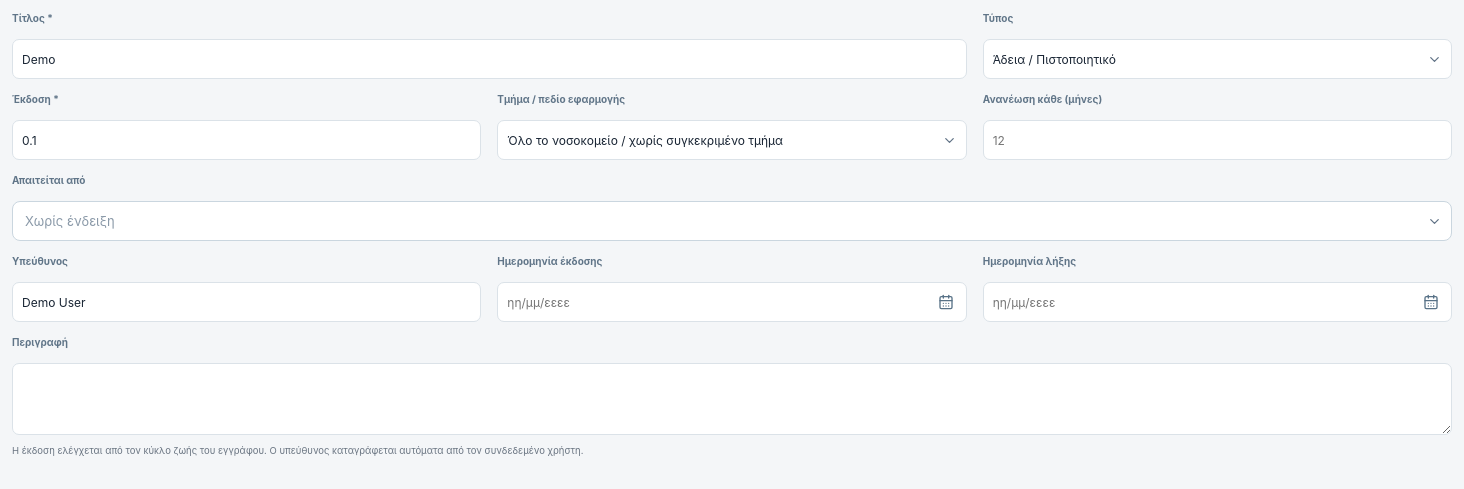
Test: document form grid › gives a licence a renewal number, issue/expiry dates and one required-by dropdown with tags
Expected: the text "Ημερομηνία έκδοσης" is shown, [497, 255, 602, 267]
Expected: the text "Ημερομηνία λήξης" is shown, [983, 255, 1076, 267]
Click the button with class "multi-select-button" at (70, 221), box [12, 201, 1452, 241]
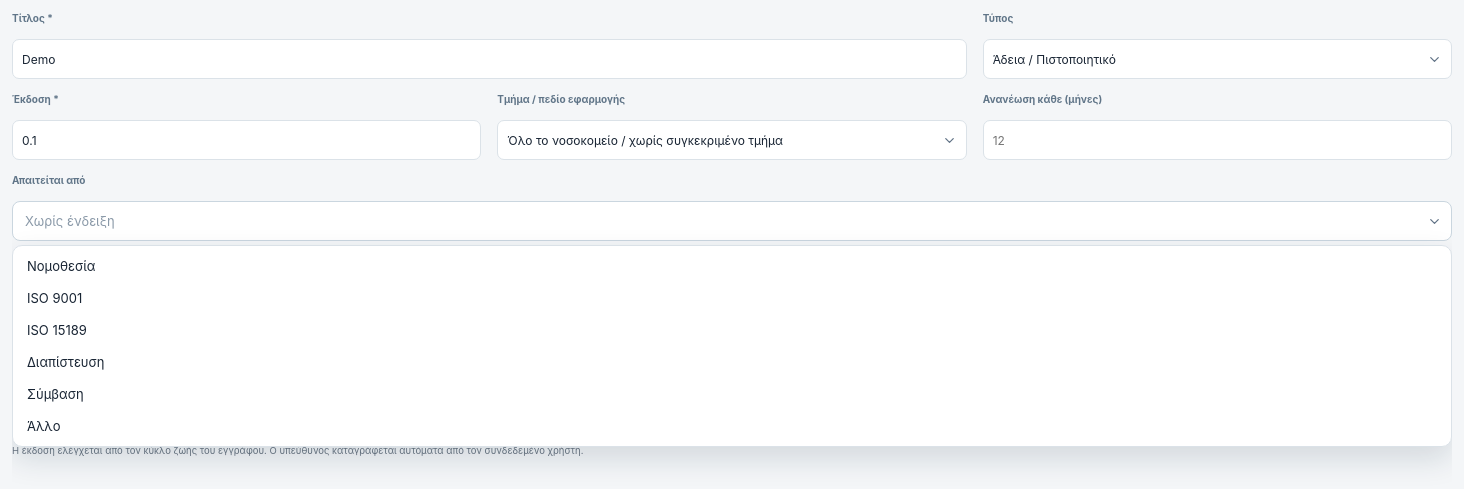
Click the option "ISO 15189" at (57, 330), box [27, 322, 87, 338]
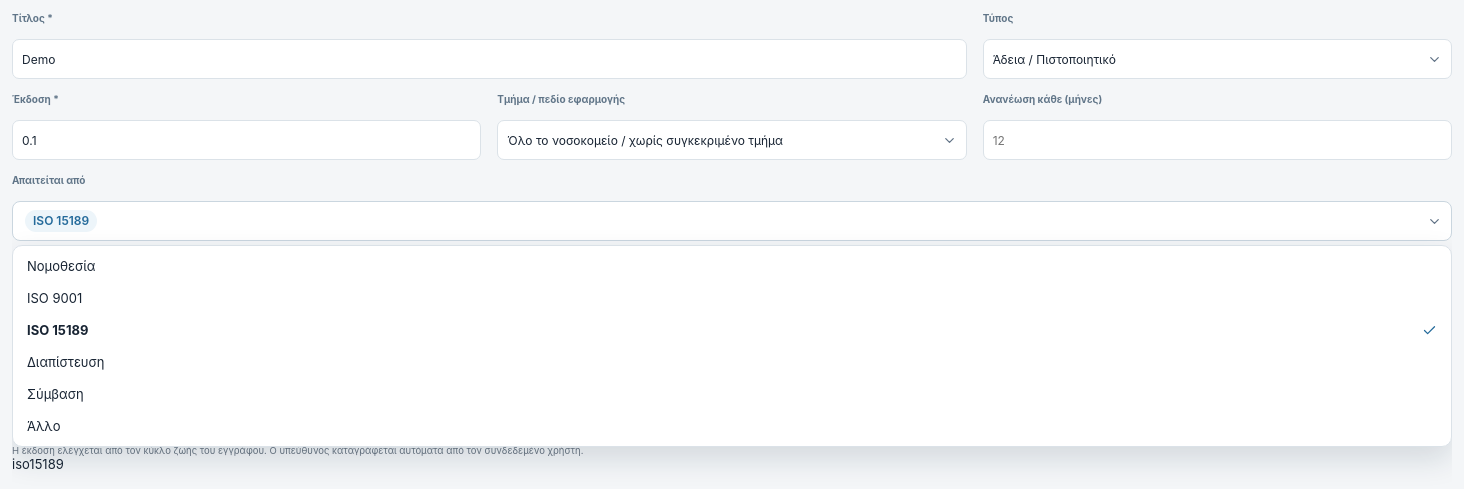
Click the option "Νομοθεσία" at (61, 266), box [27, 258, 95, 274]
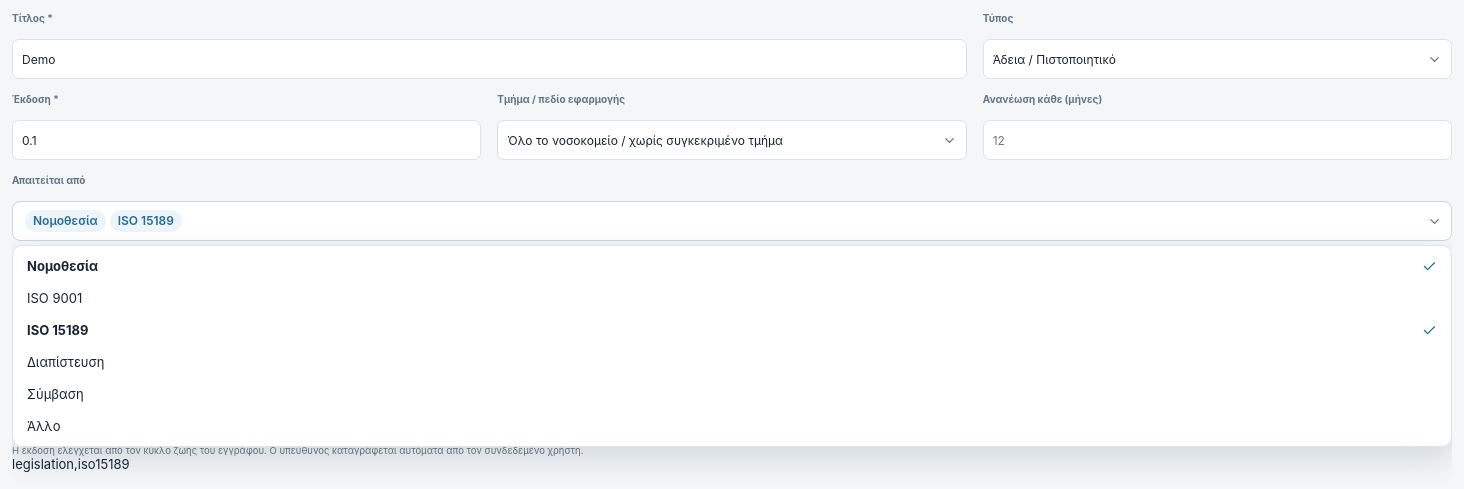
Result: the text with test id "required" reads "legislation,iso15189" at [12, 456, 130, 472]
